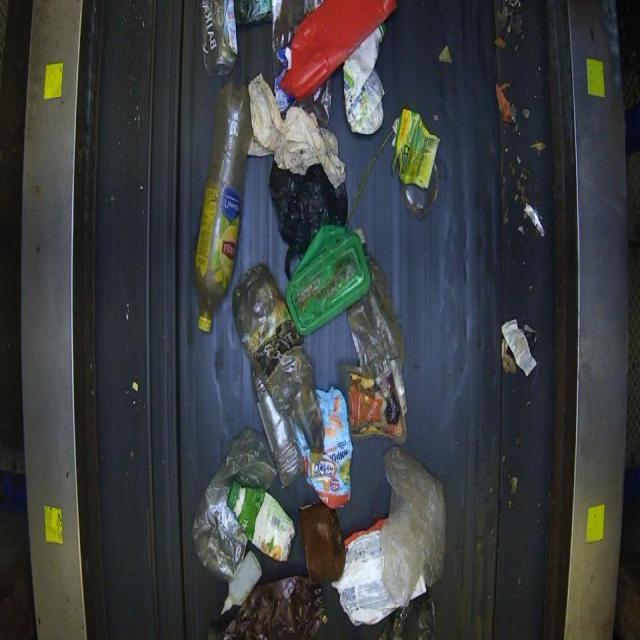cups: (277, 0, 397, 104), (283, 223, 372, 336)
other-trash: (189, 0, 446, 637)
